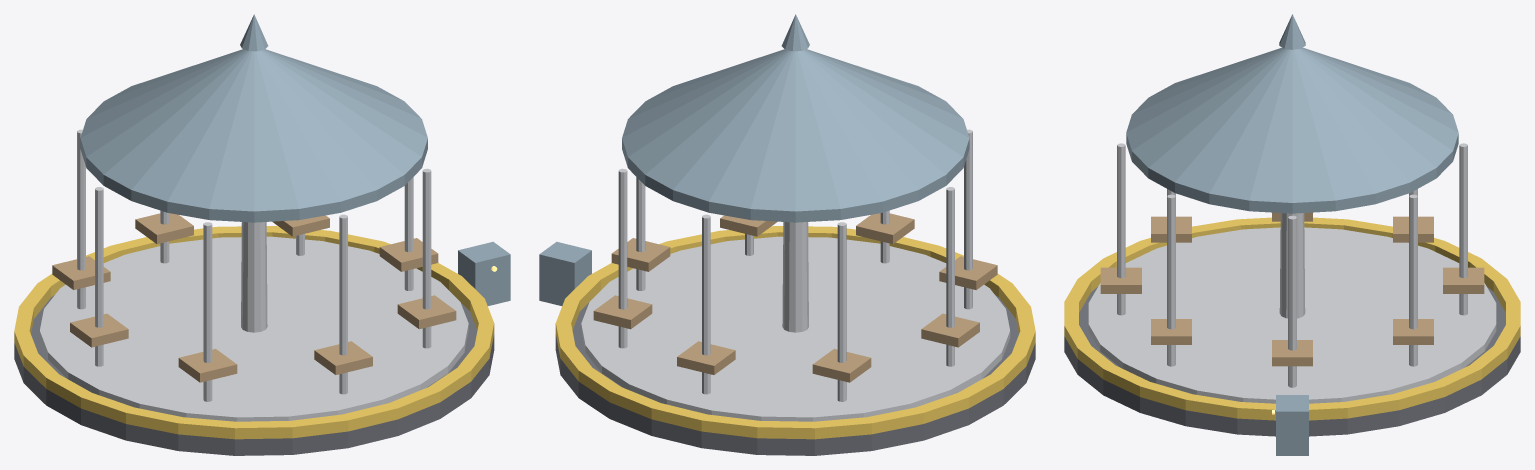
The model's file is animated-mechanisms-kit-carousel-platform-760119ba__24628.glb.
3 views of the same model, side by side, from view 1: azimuth 30°, elevation 25°; view 2: azimuth 150°, elevation 25°; view 3: azimuth 270°, elevation 25° (orthographic). The views are drawn at different scales.
Visible parts, largest first — view 1: deck/steel, deck/paint, carousel-platform, deck/timber; view 2: deck/steel, deck/paint, carousel-platform, deck/timber; view 3: deck/steel, deck/paint, carousel-platform, deck/timber.
Part boxes in pixels (<box>): deck/steel: <box>39,129,468,421</box>; deck/paint: <box>80,14,427,222</box>; carousel-platform: <box>14,226,510,455</box>; deck/timber: <box>52,213,456,382</box>; deck/steel: <box>581,129,1010,421</box>; deck/paint: <box>622,14,969,222</box>; carousel-platform: <box>539,226,1035,455</box>; deck/timber: <box>593,213,997,382</box>; deck/steel: <box>1088,143,1496,403</box>; deck/paint: <box>1126,14,1458,213</box>; carousel-platform: <box>1064,217,1520,455</box>; deck/timber: <box>1100,212,1484,366</box>.
Bounding box in the file's own units: 5.15 × 3.68 × 4.67.
